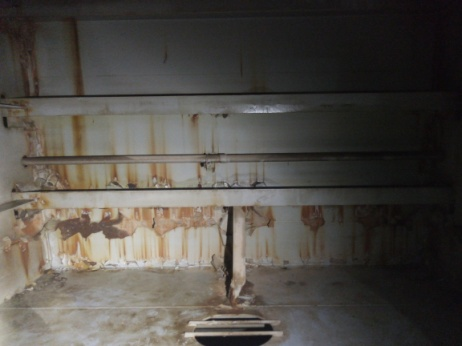corrosion: (117, 238, 204, 272), (11, 29, 41, 95), (138, 205, 213, 231), (12, 220, 37, 286), (43, 214, 96, 242), (53, 247, 106, 275), (68, 23, 89, 93), (20, 163, 64, 190), (60, 117, 92, 154), (95, 210, 135, 239), (297, 235, 327, 267), (190, 157, 221, 185), (17, 120, 43, 153), (249, 235, 279, 262), (242, 213, 280, 232), (145, 115, 164, 153), (184, 112, 202, 152), (294, 210, 328, 227), (72, 163, 95, 187), (126, 168, 145, 193), (102, 165, 122, 188), (151, 172, 179, 185)
